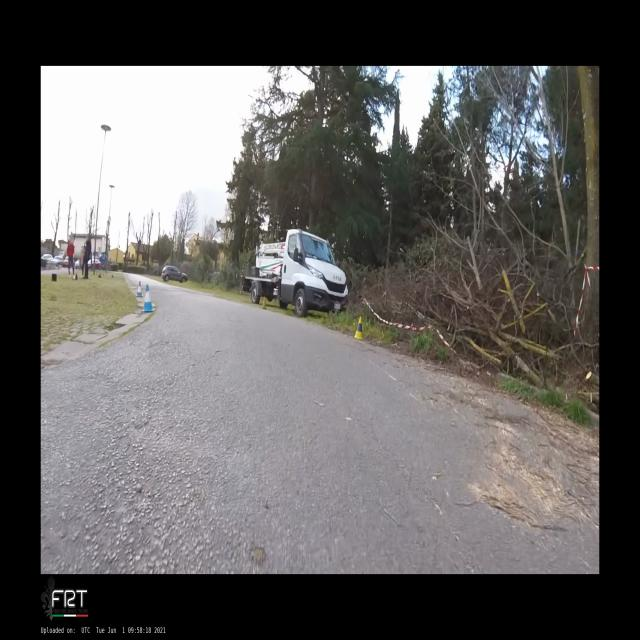blue_cone: (141, 285, 155, 312), (136, 281, 143, 297)
unknown_cone: (262, 296, 266, 310), (51, 273, 57, 282)
yellow_cone: (353, 316, 363, 340)
